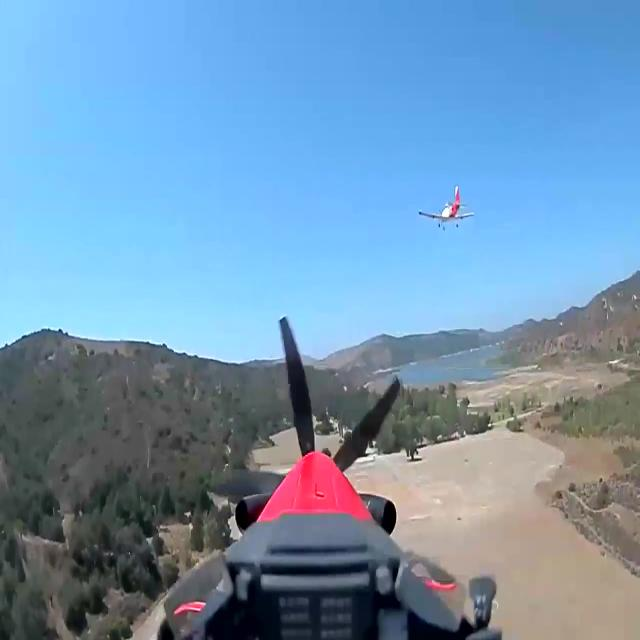iha: (418, 185, 475, 233)
